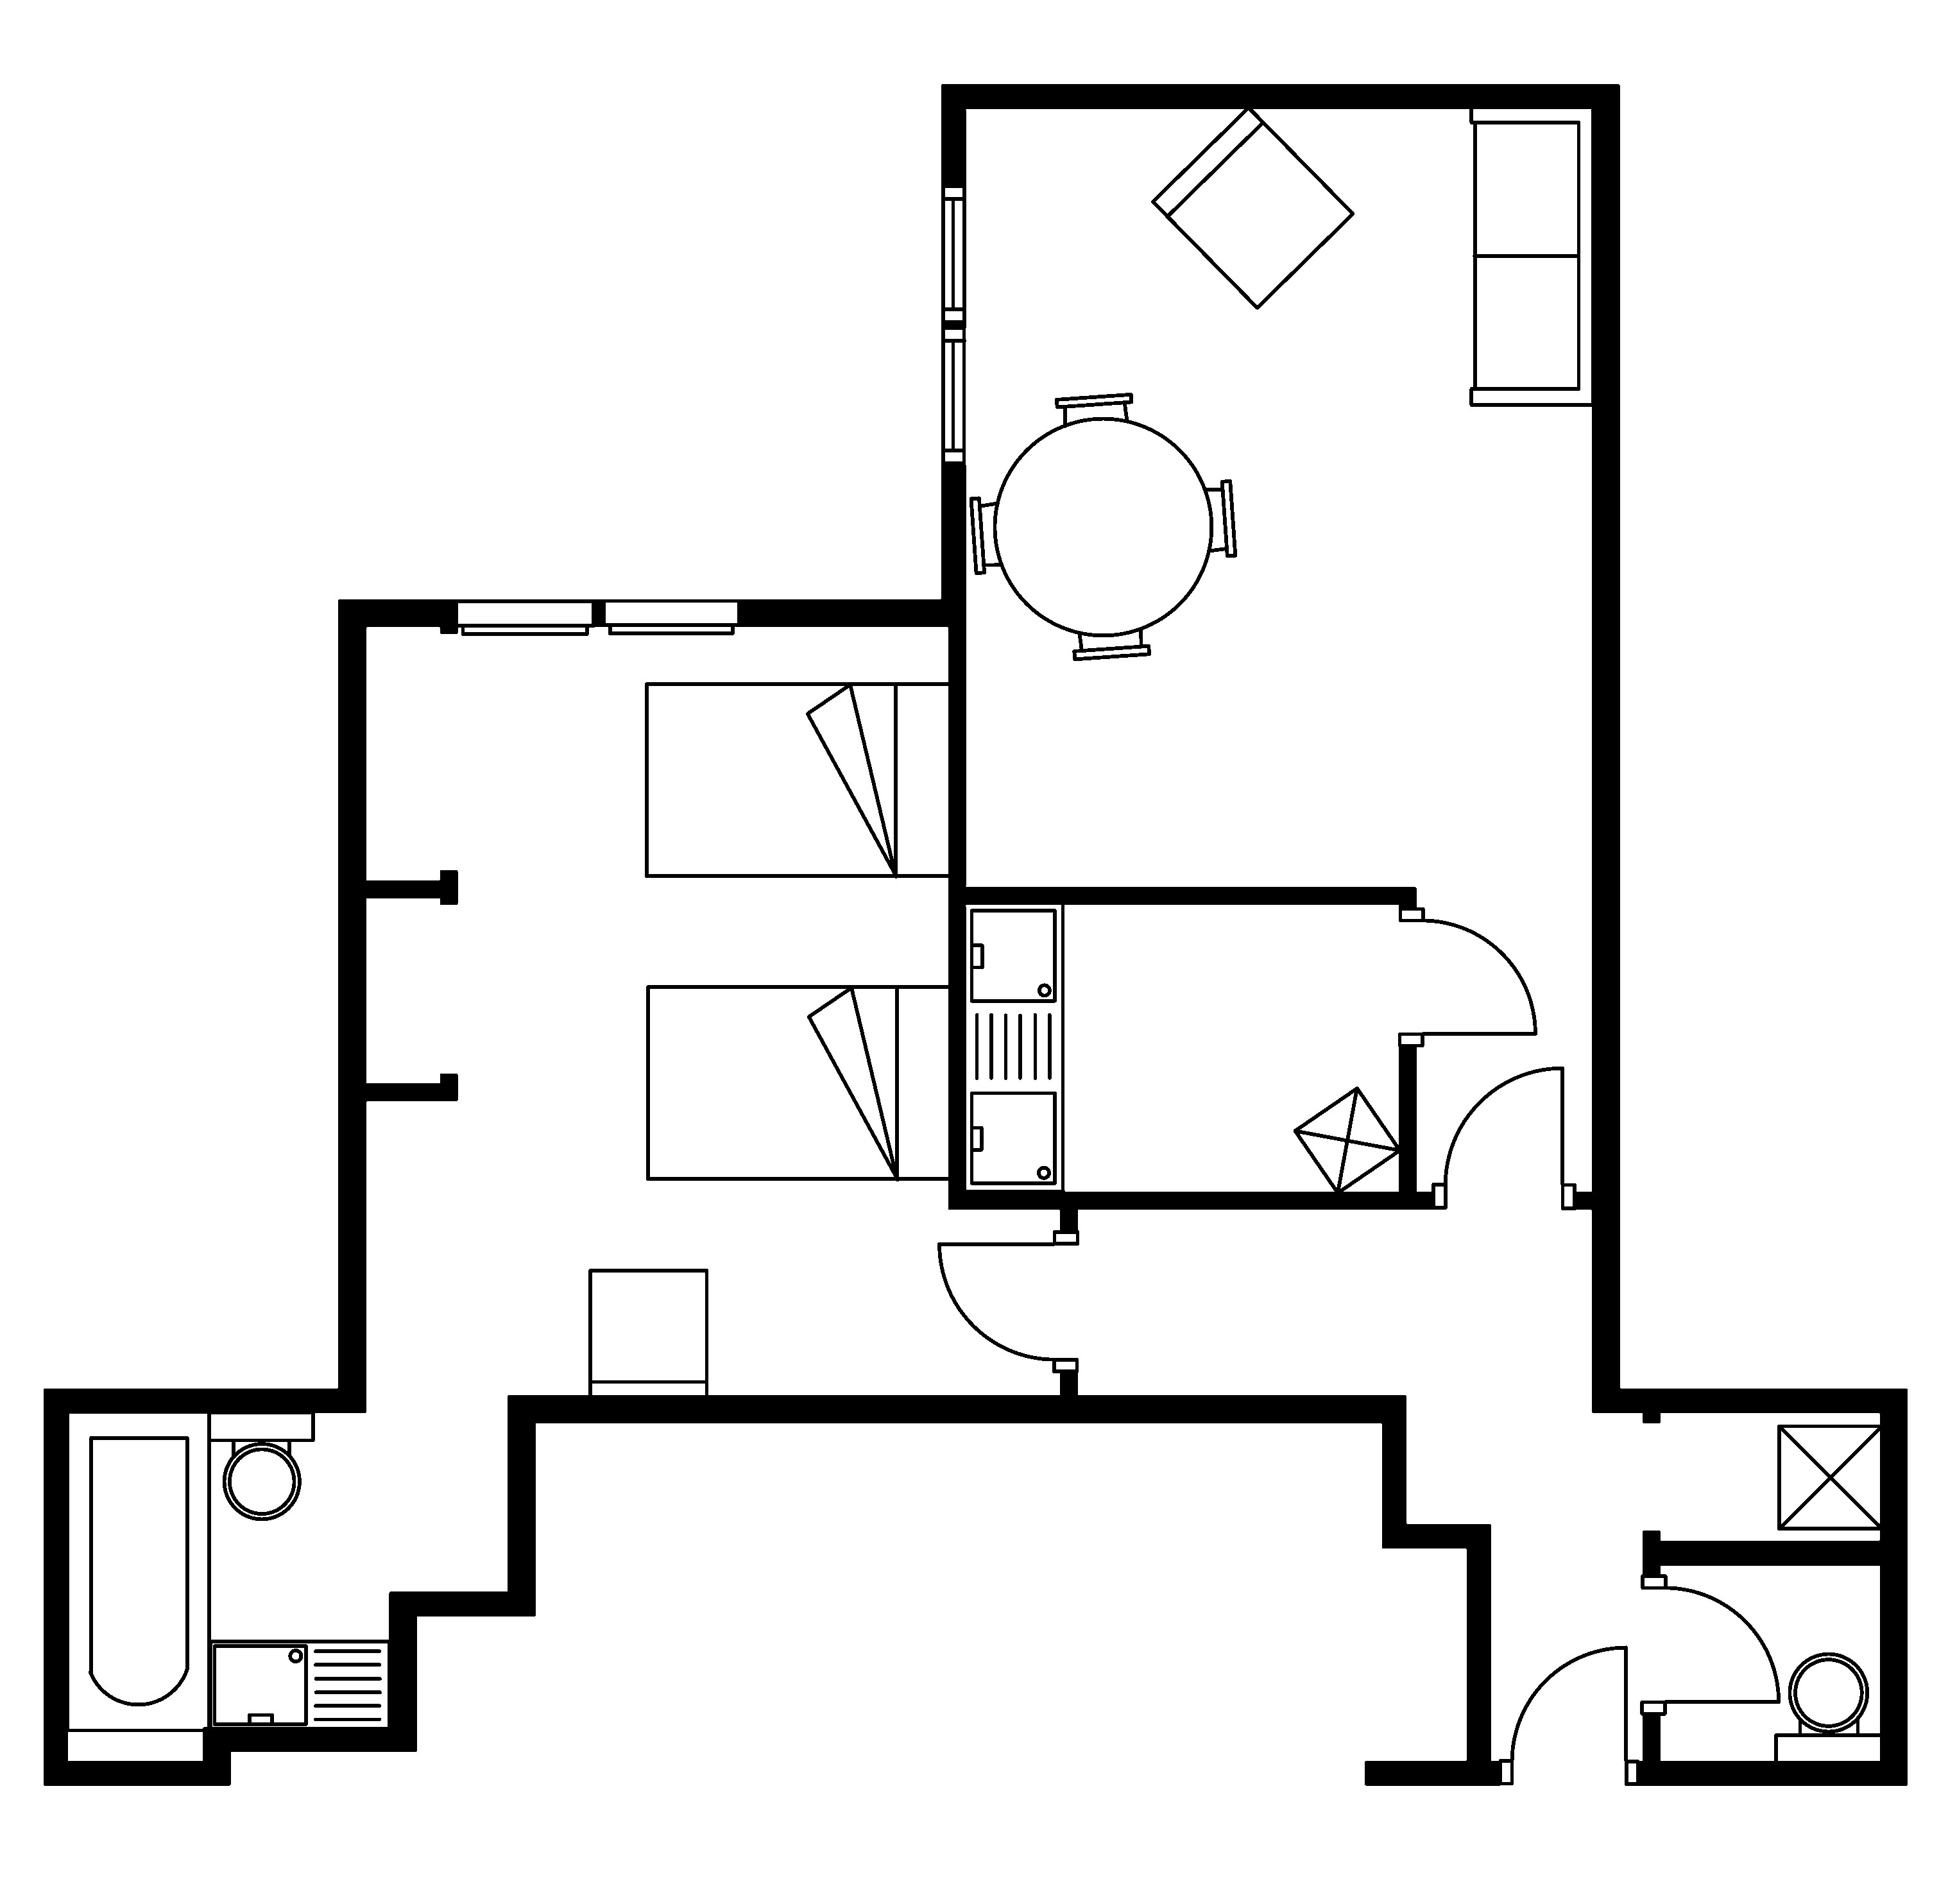bed: (644, 680, 952, 879), (645, 983, 954, 1182)
coffee_table: (1292, 1086, 1402, 1194), (1775, 1423, 1883, 1531)
large_sink: (1774, 1653, 1885, 1766), (206, 1411, 316, 1520)
large_sofa: (1468, 105, 1596, 406)
round_table: (968, 392, 1236, 661)
sink: (208, 1639, 391, 1731)
small_sofa: (1149, 105, 1355, 310), (588, 1268, 708, 1402)
tub: (65, 1409, 211, 1733)
twin_sink: (961, 900, 1066, 1194)
